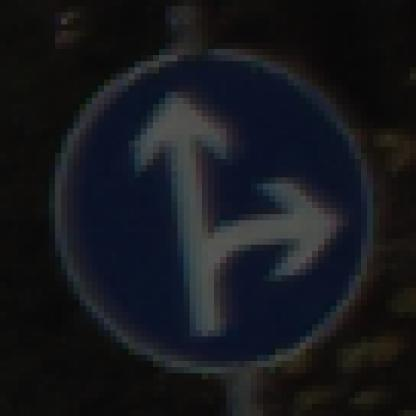Straight or Right: (44, 38, 380, 380)
